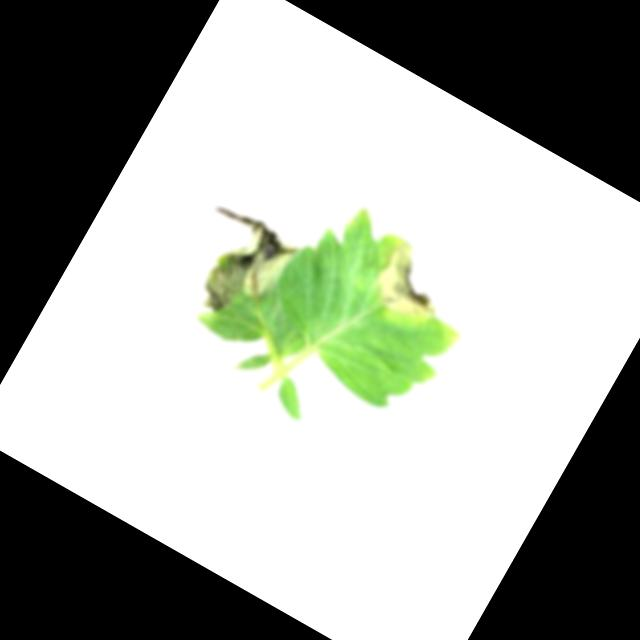Late_blight: (171, 196, 306, 335), (361, 232, 463, 335)
